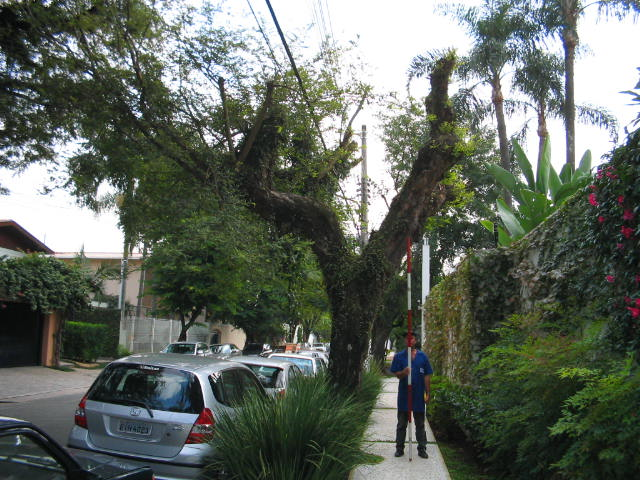stem: (316, 267, 392, 401)
stick: (401, 234, 418, 462)
tree: (224, 47, 476, 400)
